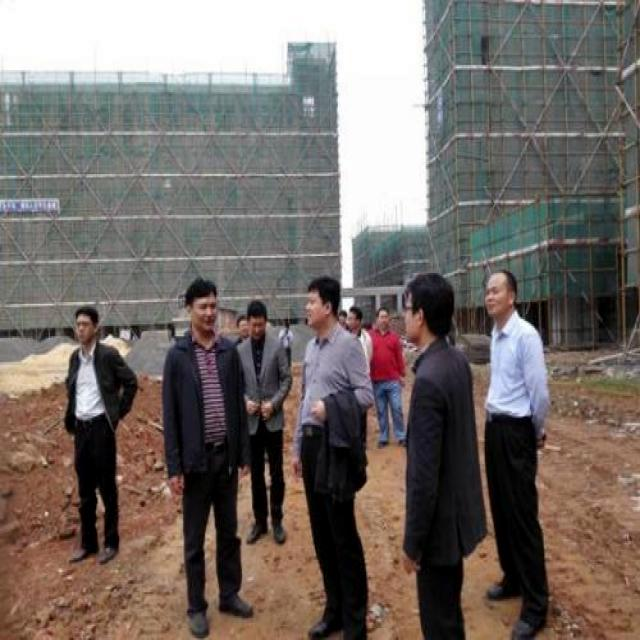no_head_wear: (403, 273, 453, 317), (308, 276, 337, 316), (186, 276, 216, 307), (495, 270, 516, 294), (76, 305, 97, 323), (248, 300, 266, 319), (348, 305, 361, 319), (378, 307, 389, 314), (236, 316, 244, 321)
person: (164, 278, 251, 637), (404, 273, 485, 638), (293, 276, 371, 638), (485, 270, 548, 638), (64, 305, 137, 561), (238, 300, 291, 543), (370, 311, 403, 444), (346, 305, 371, 370), (278, 323, 292, 365), (237, 316, 248, 343), (339, 311, 347, 328)
